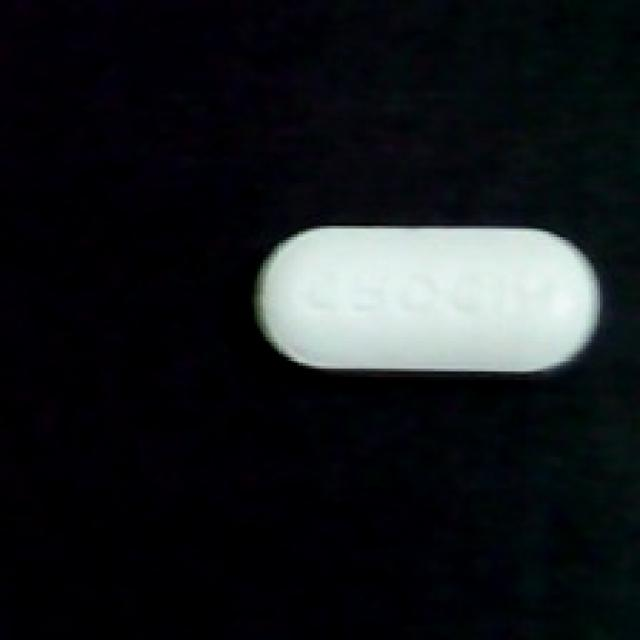no-defect: (251, 223, 609, 380)
